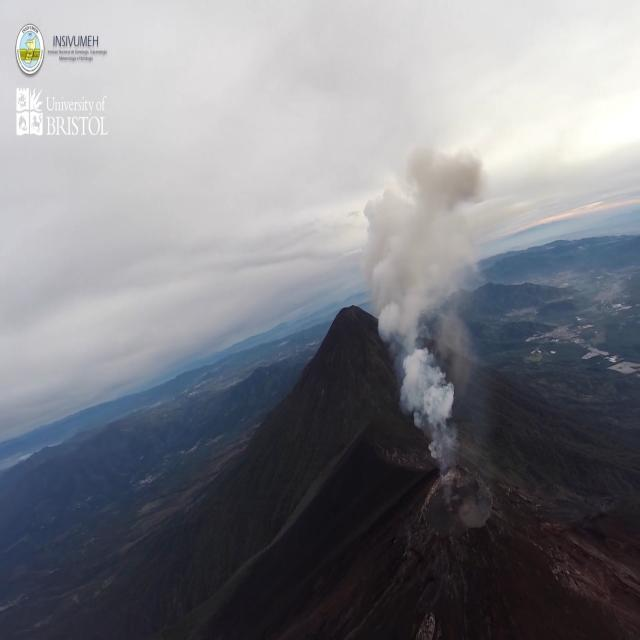Plume: (362, 141, 503, 469)
Summit: (394, 468, 599, 640)
